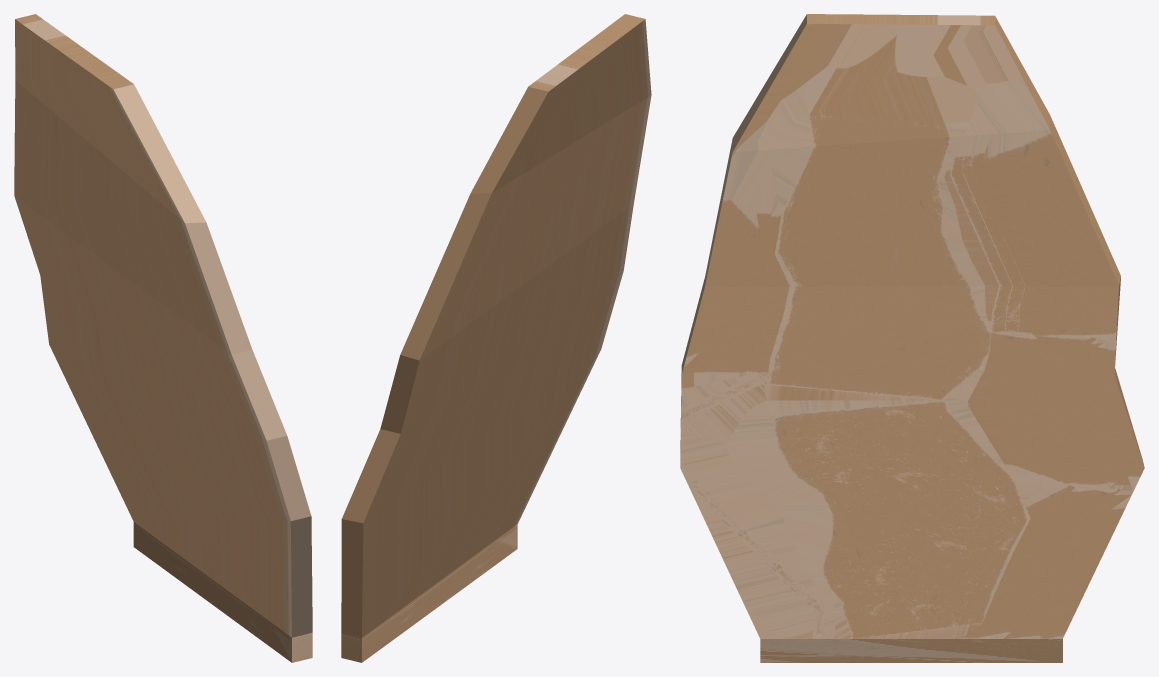
File: RobobertoCardboard.fbx
3 views of the same model, side by side, from view 1: azimuth 30°, elevation 25°; view 2: azimuth 150°, elevation 25°; view 3: azimuth 270°, elevation 25° (orthographic). The views are drawn at different scales.
Parts seen in each view (by area): view 1: ParteRotacional; view 2: ParteRotacional; view 3: ParteRotacional.
Boxes of the visible parts, x1,y1,x2,y2 form: ParteRotacional: (14,14,312,662); ParteRotacional: (341,14,651,662); ParteRotacional: (680,14,1144,662).
Size of the model in its own units: 128 by 414 by 307.
